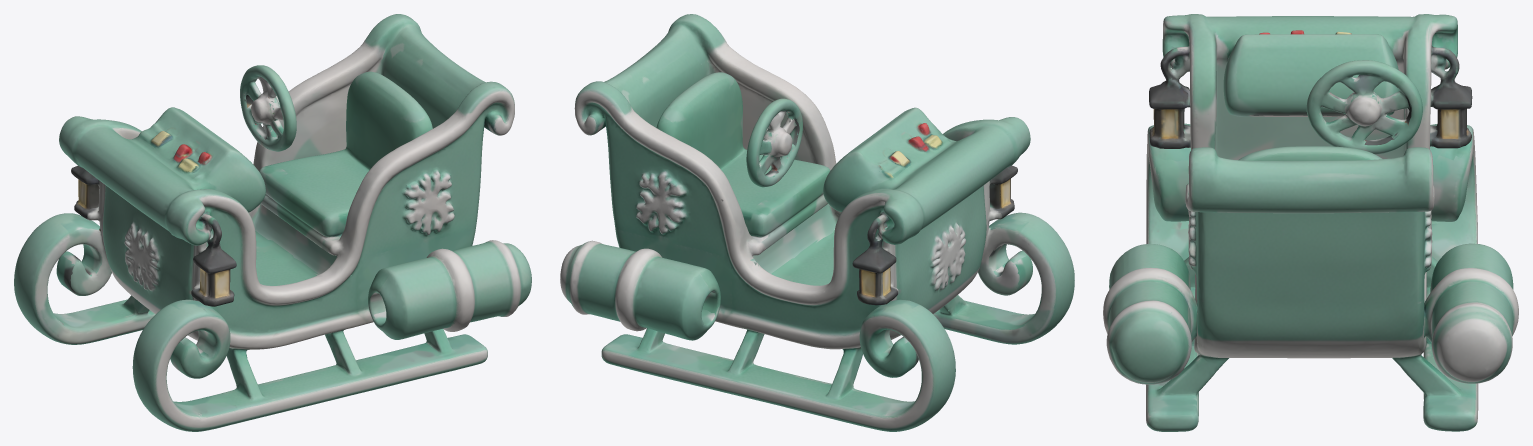
File: Sled.fbx
3 renders of one model, left to right at view 1: azimuth 30°, elevation 25°; view 2: azimuth 150°, elevation 25°; view 3: azimuth 270°, elevation 25°, orthographic. The views are drawn at different scales.
Parts seen in each view (by area): view 1: material_0; view 2: material_0; view 3: material_0.
Part boxes in pixels (left/top/right/bottom): material_0: left=14, top=14, right=531, bottom=431; material_0: left=560, top=14, right=1074, bottom=431; material_0: left=1103, top=14, right=1518, bottom=431.
Size of the model in its own units: 99.98 by 64.93 by 80.84.
Materials: 1 (1 with a texture image).
